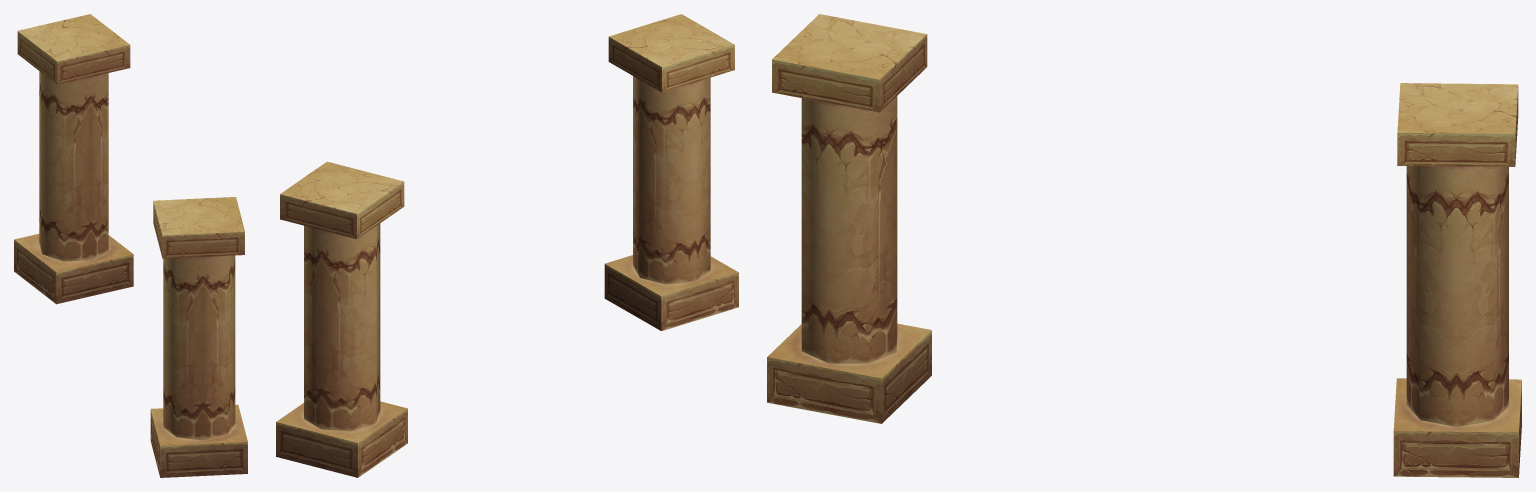
Rendered from Area_10_35.fbx.
The picture shows the model from 3 angles, left to right: view 1: azimuth 30°, elevation 25°; view 2: azimuth 150°, elevation 25°; view 3: azimuth 270°, elevation 25°; orthographic projection. The views are drawn at different scales.
Visible parts, largest first — view 1: Area_10_35; view 2: Area_10_35; view 3: Area_10_35.
Boxes of the visible parts, left/top/right/bottom form: Area_10_35: left=14, top=14, right=247, bottom=477; Area_10_35: left=276, top=14, right=738, bottom=477; Area_10_35: left=767, top=14, right=1521, bottom=477.
Bounding box in the file's own units: 580 × 749 × 1497.
